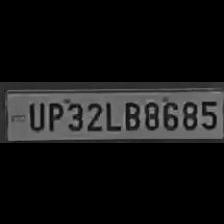2: (85, 97, 103, 130)
3: (64, 97, 82, 130)
5: (198, 96, 218, 130)
6: (160, 98, 178, 130)
8: (178, 96, 198, 130), (142, 96, 160, 130)
B: (122, 96, 140, 130)
L: (101, 97, 119, 130)
P: (45, 97, 63, 130)
U: (24, 97, 43, 130)
